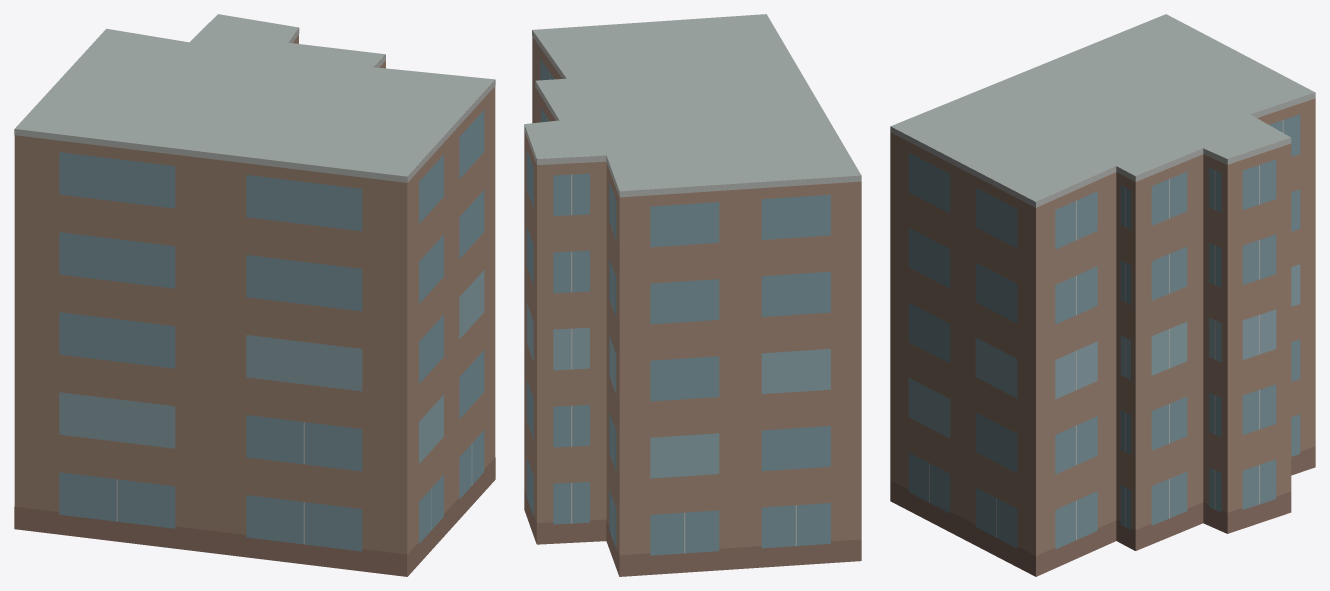
Rendered from survey-upis-32780258.glb.
3 views of the same model, side by side, from view 1: azimuth 30°, elevation 25°; view 2: azimuth 150°, elevation 25°; view 3: azimuth 270°, elevation 25° (orthographic). The views are drawn at different scales.
Parts seen in each view (by area): view 1: survey-upis-32780258.tmp; view 2: survey-upis-32780258.tmp; view 3: survey-upis-32780258.tmp.
Part boxes in pixels (left/top/right/bottom): survey-upis-32780258.tmp: left=14, top=14, right=495, bottom=576; survey-upis-32780258.tmp: left=524, top=14, right=861, bottom=576; survey-upis-32780258.tmp: left=890, top=14, right=1315, bottom=576.
Size of the model in its own units: 16.82 by 15.62 by 16.07.
